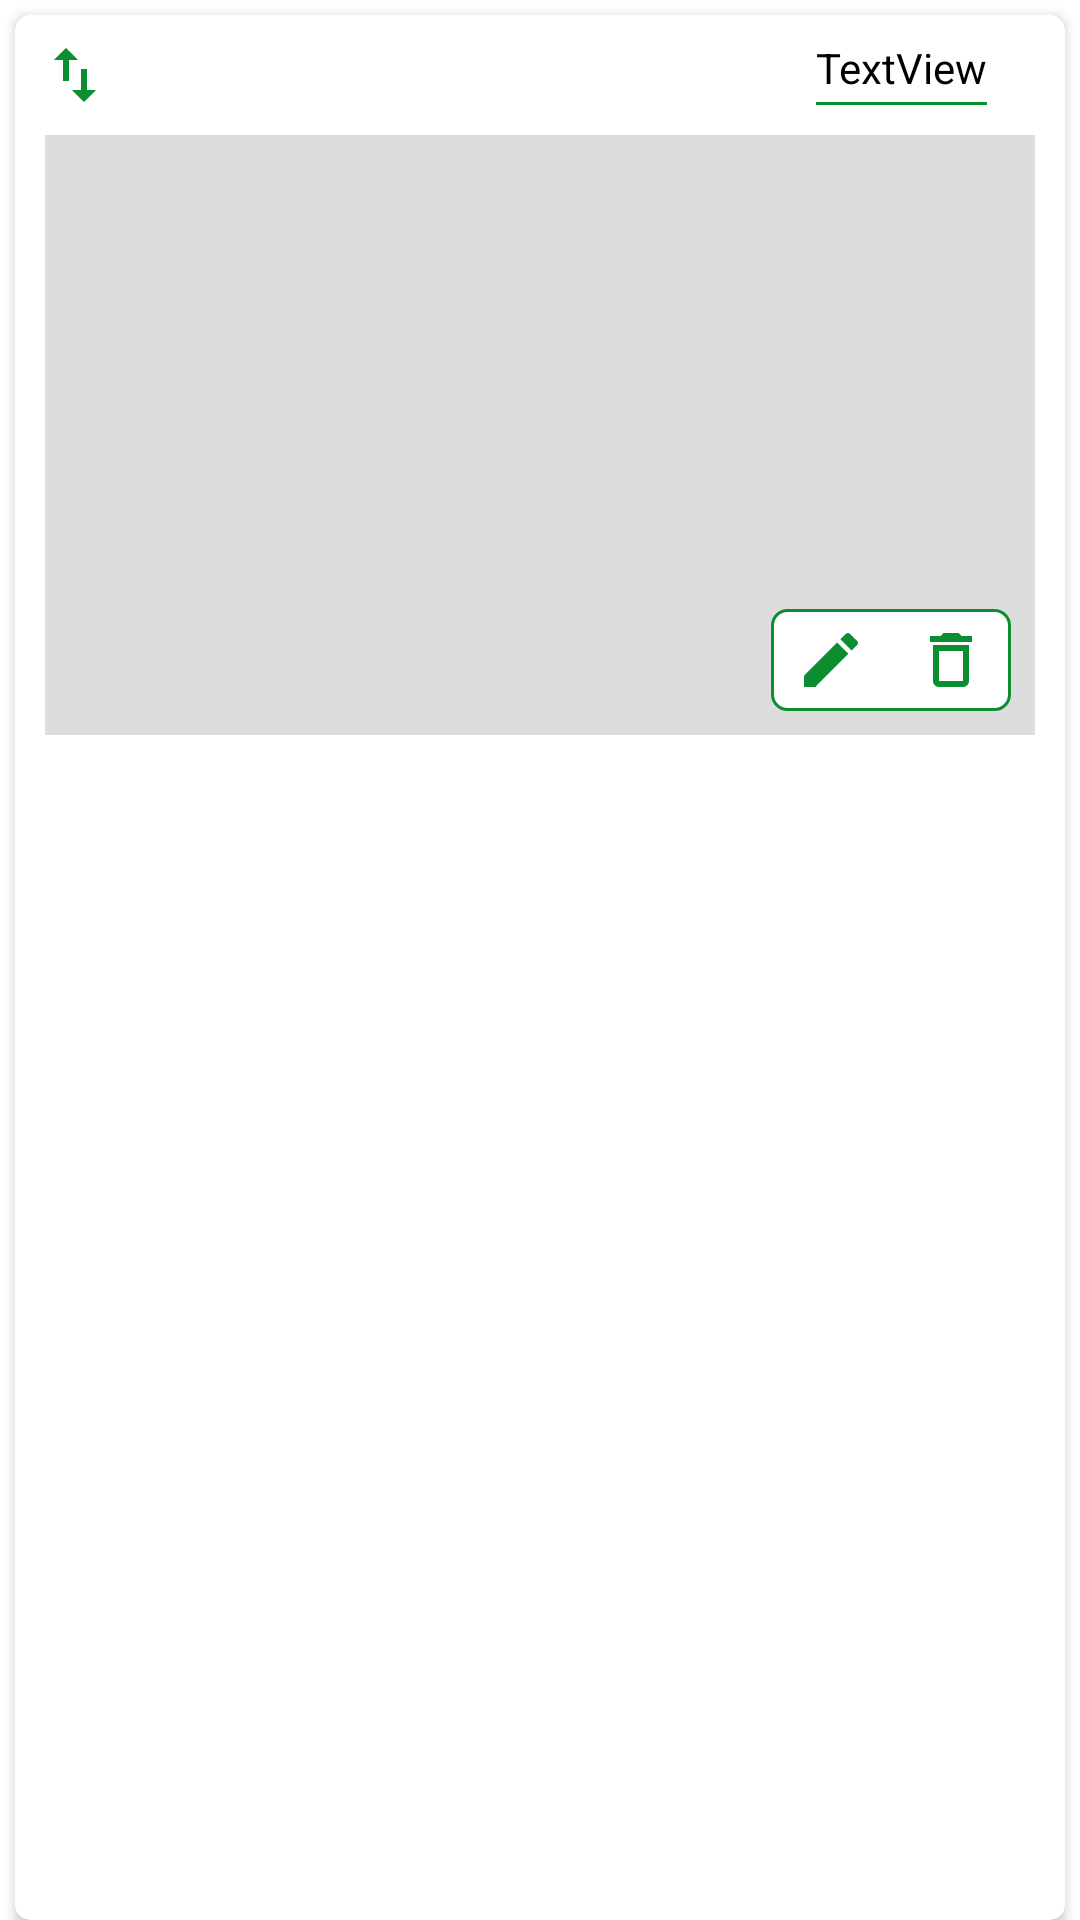

Icon click points for this 1080×1920 phone screenshot, format (x,y):
delete: (951,660)
drag: (75,75)
edit: (831,660)
